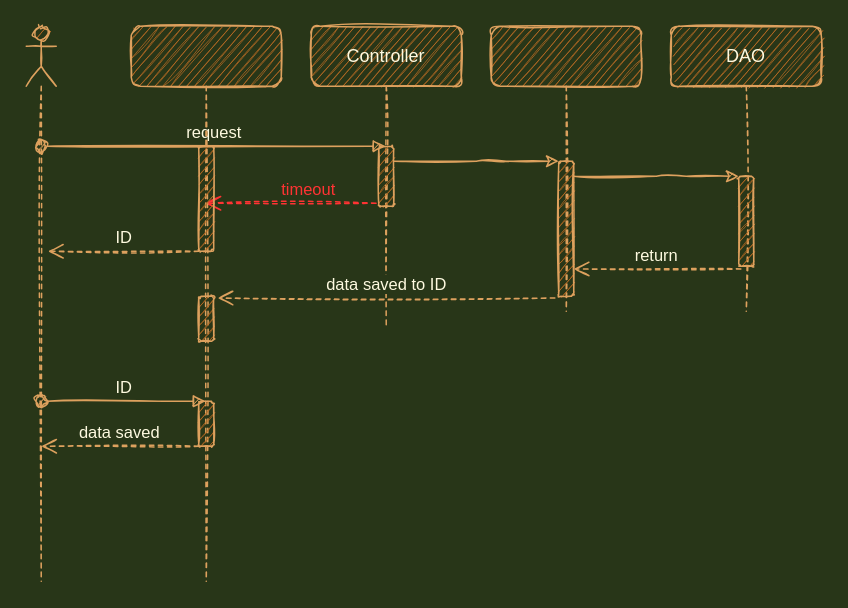
The diagram is 848 pixels wide and 608 high, and some of its shapes have lost their labels. The centre of each missing label's shape, as x and y in pixels:
Deferred response: (x=205, y=303)
Service: (x=565, y=168)
